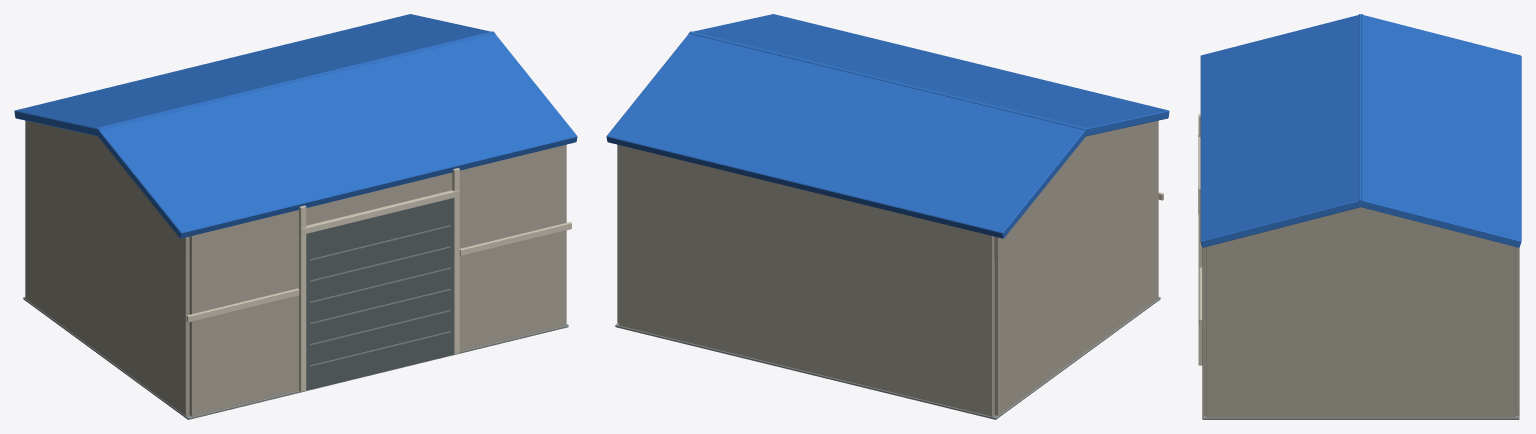
The model's file is Warehouse_Blue.glb.
3 renders of one model, left to right at view 1: azimuth 30°, elevation 25°; view 2: azimuth 150°, elevation 25°; view 3: azimuth 270°, elevation 25°, orthographic. The views are drawn at different scales.
Parts seen in each view (by area): view 1: FTF_Building_LargeWarehouse_16x12m_Blue_Mesh; view 2: FTF_Building_LargeWarehouse_16x12m_Blue_Mesh; view 3: FTF_Building_LargeWarehouse_16x12m_Blue_Mesh.
Part boxes in pixels (<box>): FTF_Building_LargeWarehouse_16x12m_Blue_Mesh: <box>14,14,577,419</box>; FTF_Building_LargeWarehouse_16x12m_Blue_Mesh: <box>606,14,1169,419</box>; FTF_Building_LargeWarehouse_16x12m_Blue_Mesh: <box>1198,14,1521,419</box>.
Size of the model in its own units: 16.65 by 9.36 by 12.22.
